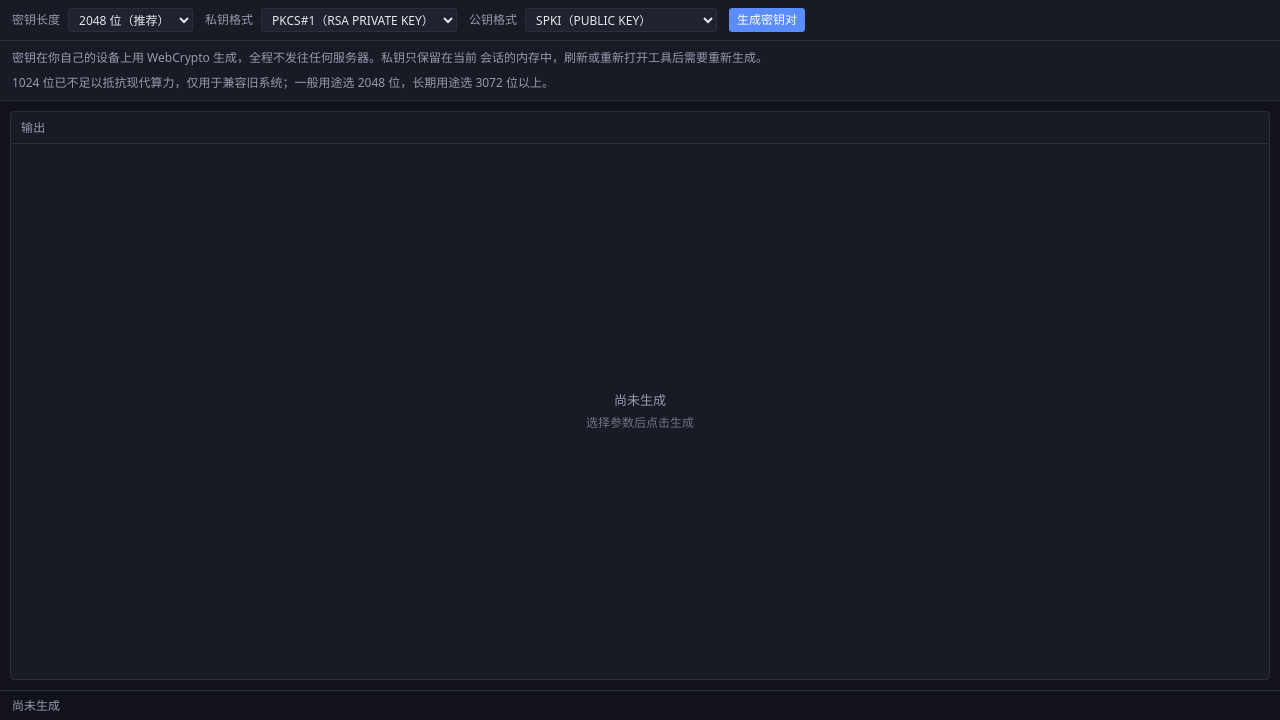
Test: RSA 密钥对生成器 › 生成失败时展示原因并进入错误态（结果区不再显示任何密钥）
Click the button "生成密钥对": click(767, 20) 729,8 -> 805,32
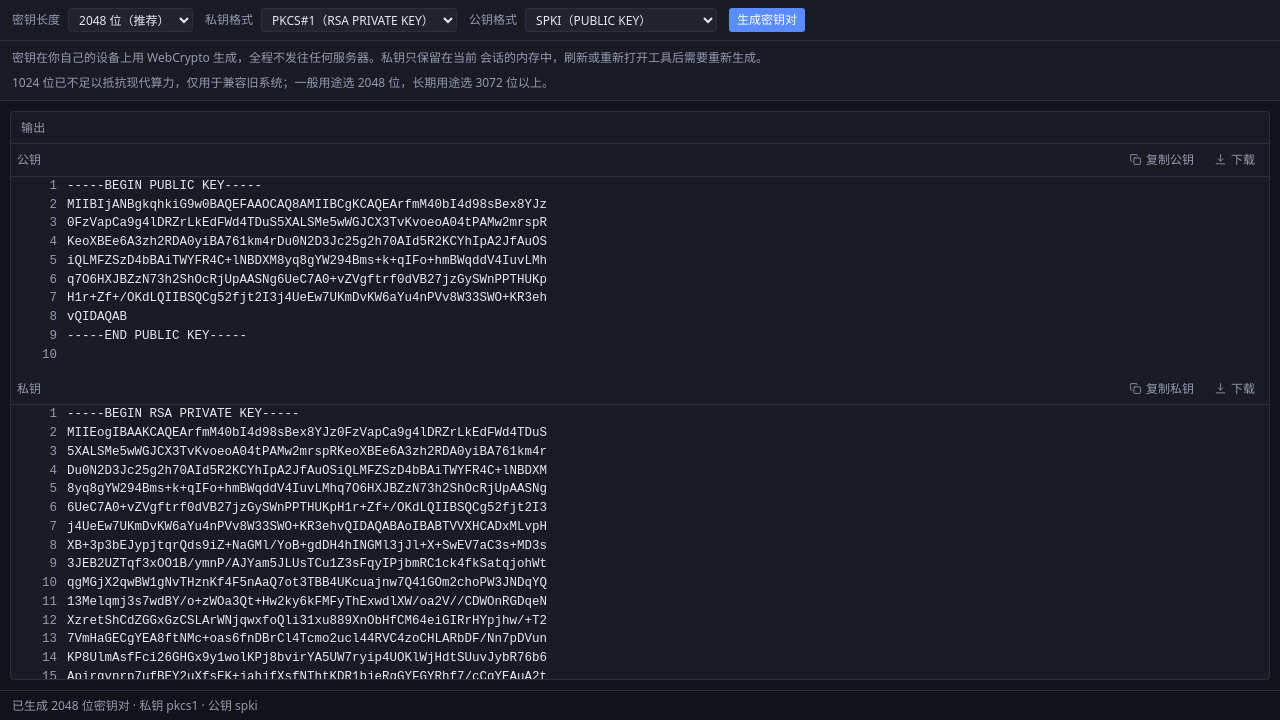
Click the button "生成密钥对": click(767, 20) 729,8 -> 805,32
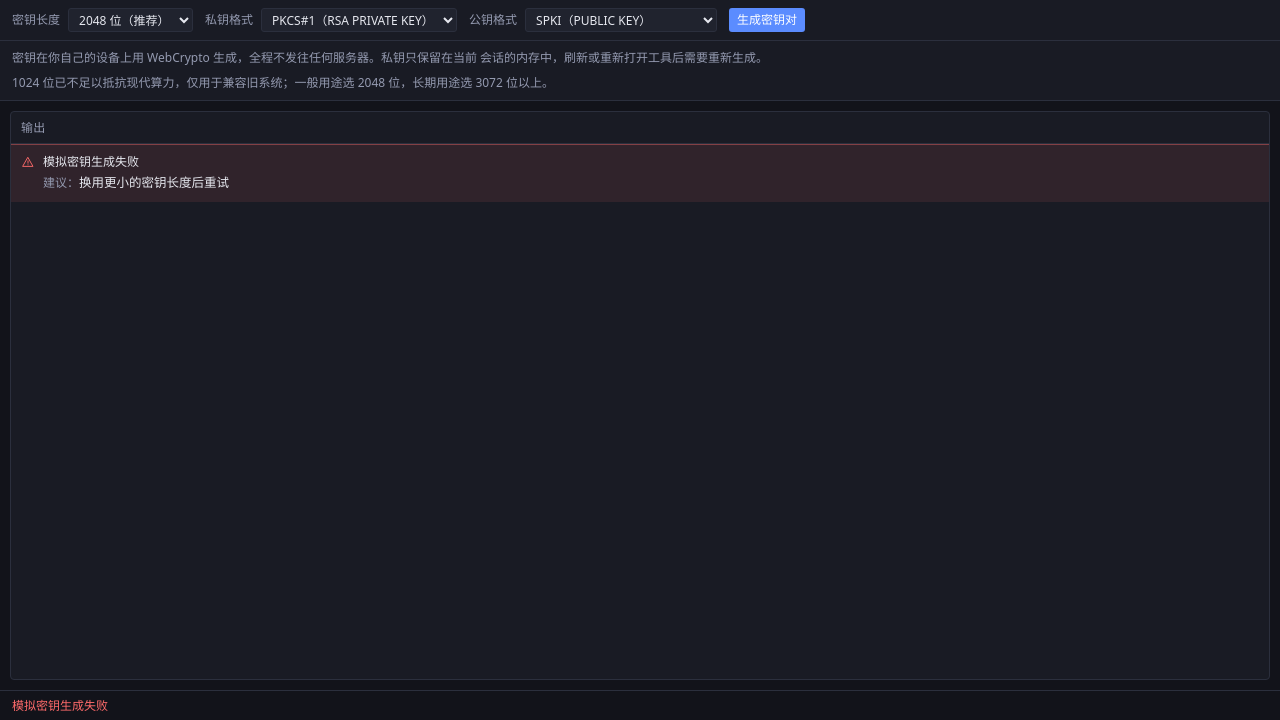
Now the message shows "模拟密钥生成失败", box 43,153 -> 139,170
